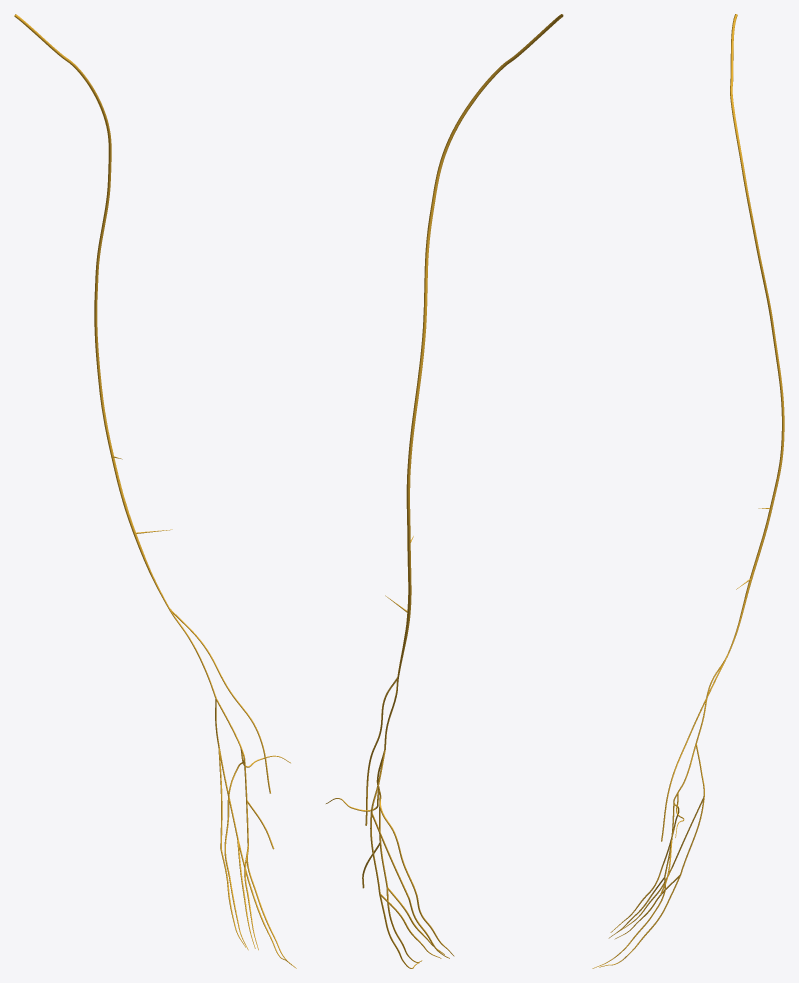
Rendered from nervoso-ulnar-nerve-l.glb.
3 renders of one model, left to right at view 1: azimuth 30°, elevation 25°; view 2: azimuth 150°, elevation 25°; view 3: azimuth 270°, elevation 25°, orthographic. The views are drawn at different scales.
Parts seen in each view (by area): view 1: Ulnar nerve.l, Proper palmar digital branches of ulnar nerve.l, Dorsal digital branches of ulnar nerve.l; view 2: Ulnar nerve.l, Proper palmar digital branches of ulnar nerve.l, Dorsal branch of ulnar nerve.l, Dorsal digital branches of ulnar nerve.l; view 3: Ulnar nerve.l, Proper palmar digital branches of ulnar nerve.l, Dorsal digital branches of ulnar nerve.l.
Part boxes in pixels (<box>): Ulnar nerve.l: <box>14,14,216,698</box>; Proper palmar digital branches of ulnar nerve.l: <box>224,759,296,968</box>; Dorsal digital branches of ulnar nerve.l: <box>220,838,289,963</box>; Ulnar nerve.l: <box>384,14,563,749</box>; Proper palmar digital branches of ulnar nerve.l: <box>379,797,454,962</box>; Dorsal branch of ulnar nerve.l: <box>370,750,409,898</box>; Dorsal digital branches of ulnar nerve.l: <box>379,894,449,968</box>; Ulnar nerve.l: <box>695,14,784,743</box>; Proper palmar digital branches of ulnar nerve.l: <box>592,801,679,968</box>; Dorsal digital branches of ulnar nerve.l: <box>599,867,680,967</box>.
Size of the model in its own units: 0.1853 by 0.6871 by 0.1384.
